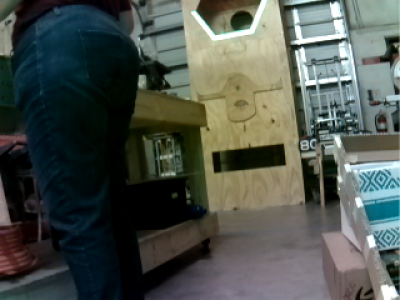target: (190, 1, 266, 40)
